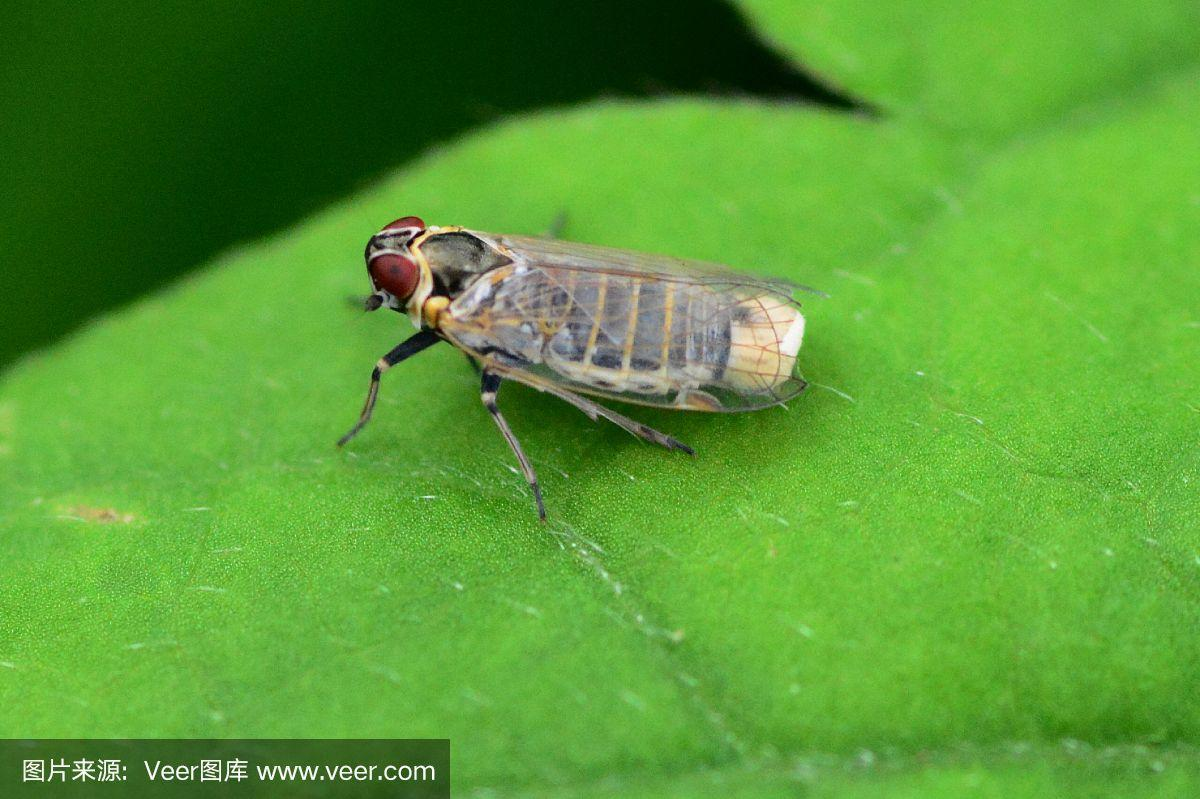Delphacidae: (331, 209, 832, 527)
